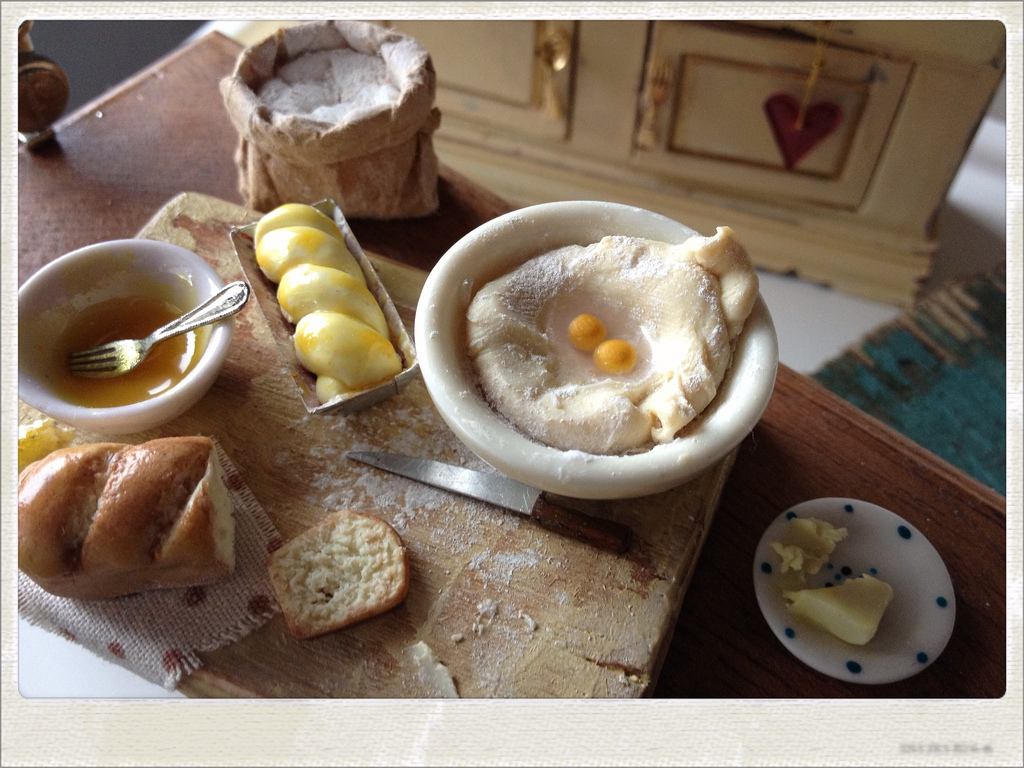fried egg: (557, 339, 651, 392), (540, 287, 605, 348)
slice of bread: (67, 447, 240, 592), (264, 512, 406, 627)
